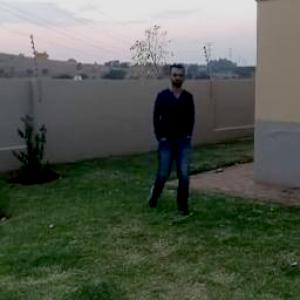follow: (151, 62, 199, 202)
